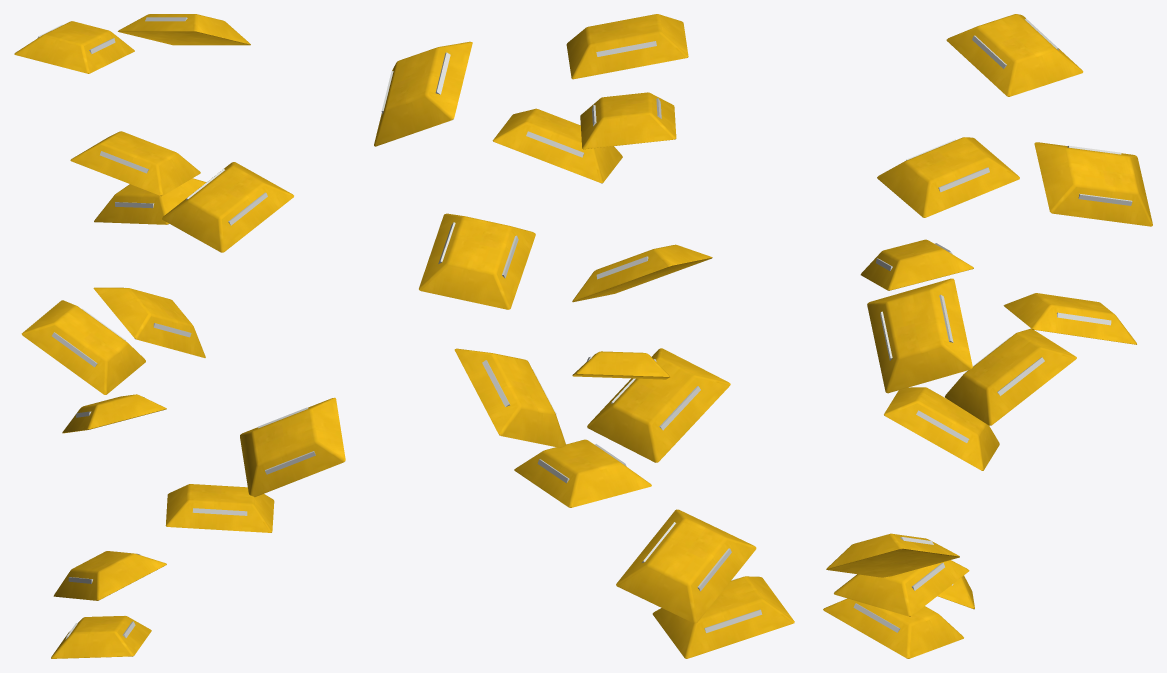
The model's file is PAV-SIN-002_anim.glb.
3 renders of one model, left to right at view 1: azimuth 30°, elevation 25°; view 2: azimuth 150°, elevation 25°; view 3: azimuth 270°, elevation 25°, orthographic. The views are drawn at different scales.
Parts seen in each view (by area): view 1: PAV-SIN-002_anim3, PAV-SIN-002_anim8, PAV-SIN-002_anim5, PAV-SIN-002_anim9, PAV-SIN-002_anim2, PAV-SIN-002_anim6, PAV-SIN-002_anim11, PAV-SIN-002_anim1, PAV-SIN-002_anim0, PAV-SIN-002_anim10, PAV-SIN-002_anim7, PAV-SIN-002_anim4; view 2: PAV-SIN-002_anim1, PAV-SIN-002_anim4, PAV-SIN-002_anim7, PAV-SIN-002_anim10, PAV-SIN-002_anim3, PAV-SIN-002_anim0, PAV-SIN-002_anim11, PAV-SIN-002_anim2, PAV-SIN-002_anim8, PAV-SIN-002_anim9, PAV-SIN-002_anim6, PAV-SIN-002_anim5; view 3: PAV-SIN-002_anim6, PAV-SIN-002_anim10, PAV-SIN-002_anim9, PAV-SIN-002_anim5, PAV-SIN-002_anim11, PAV-SIN-002_anim4, PAV-SIN-002_anim0, PAV-SIN-002_anim7, PAV-SIN-002_anim2, PAV-SIN-002_anim3, PAV-SIN-002_anim8, PAV-SIN-002_anim1.
Boxes of the visible parts, left/top/right/bottom form: PAV-SIN-002_anim3: left=240, top=397, right=345, bottom=497; PAV-SIN-002_anim8: left=162, top=162, right=293, bottom=252; PAV-SIN-002_anim5: left=21, top=300, right=145, bottom=394; PAV-SIN-002_anim9: left=70, top=131, right=200, bottom=195; PAV-SIN-002_anim2: left=165, top=484, right=274, bottom=532; PAV-SIN-002_anim6: left=93, top=287, right=205, bottom=357; PAV-SIN-002_anim11: left=14, top=21, right=134, bottom=73; PAV-SIN-002_anim1: left=53, top=551, right=166, bottom=600; PAV-SIN-002_anim0: left=51, top=616, right=151, bottom=658; PAV-SIN-002_anim10: left=118, top=14, right=250, bottom=45; PAV-SIN-002_anim7: left=94, top=178, right=206, bottom=224; PAV-SIN-002_anim4: left=62, top=394, right=166, bottom=433; PAV-SIN-002_anim1: left=616, top=509, right=756, bottom=623; PAV-SIN-002_anim4: left=587, top=348, right=730, bottom=462; PAV-SIN-002_anim7: left=419, top=213, right=535, bottom=309; PAV-SIN-002_anim10: left=374, top=41, right=472, bottom=146; PAV-SIN-002_anim3: left=454, top=348, right=566, bottom=447; PAV-SIN-002_anim0: left=652, top=576, right=794, bottom=658; PAV-SIN-002_anim11: left=566, top=14, right=688, bottom=79; PAV-SIN-002_anim2: left=514, top=439, right=651, bottom=507; PAV-SIN-002_anim8: left=492, top=108, right=622, bottom=183; PAV-SIN-002_anim9: left=580, top=92, right=676, bottom=149; PAV-SIN-002_anim6: left=572, top=244, right=712, bottom=302; PAV-SIN-002_anim5: left=572, top=351, right=669, bottom=379; PAV-SIN-002_anim6: left=867, top=278, right=972, bottom=393; PAV-SIN-002_anim10: left=1034, top=142, right=1152, bottom=226; PAV-SIN-002_anim9: left=877, top=137, right=1019, bottom=217; PAV-SIN-002_anim5: left=945, top=328, right=1076, bottom=425; PAV-SIN-002_anim11: left=946, top=14, right=1083, bottom=96; PAV-SIN-002_anim4: left=884, top=387, right=999, bottom=470; PAV-SIN-002_anim0: left=823, top=598, right=963, bottom=658; PAV-SIN-002_anim7: left=1003, top=293, right=1136, bottom=344; PAV-SIN-002_anim2: left=834, top=560, right=969, bottom=616; PAV-SIN-002_anim3: left=826, top=533, right=959, bottom=577; PAV-SIN-002_anim8: left=860, top=239, right=973, bottom=290; PAV-SIN-002_anim1: left=937, top=575, right=974, bottom=609.
Bounding box in the file's own units: 0.3121 × 0.5881 × 0.2819.
2 materials, 2 textured.
